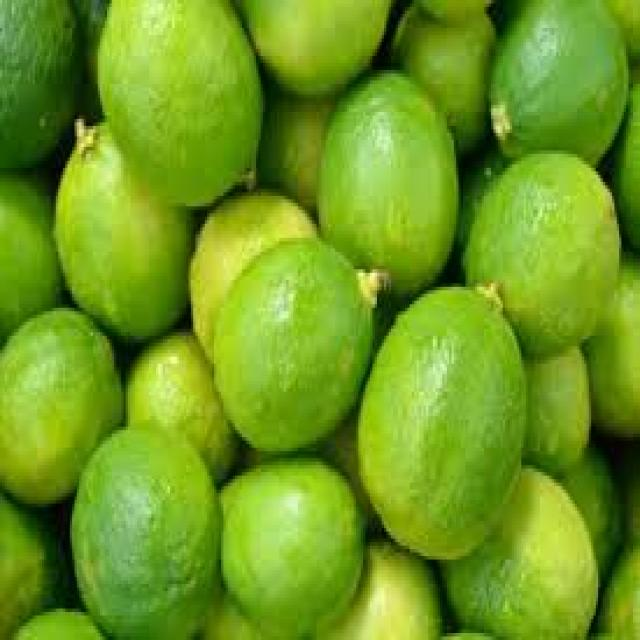Unripe: (357, 283, 528, 559), (98, 0, 265, 210), (214, 238, 375, 452), (68, 420, 223, 640), (487, 2, 632, 164)
